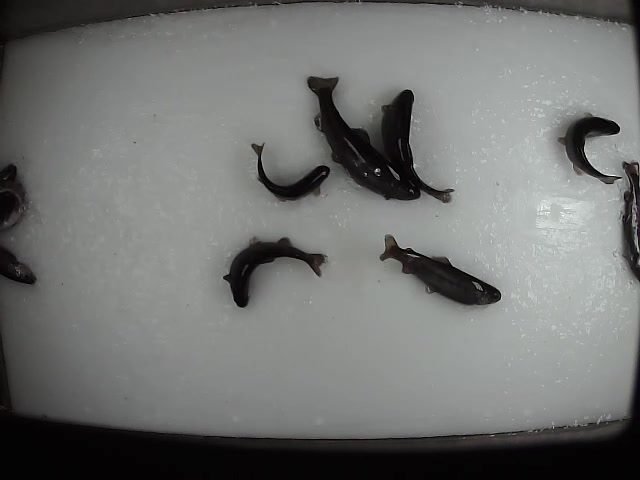fish: (302, 69, 421, 202), (375, 227, 505, 308), (376, 85, 454, 206), (222, 232, 329, 310), (250, 138, 333, 205), (555, 112, 625, 188)
